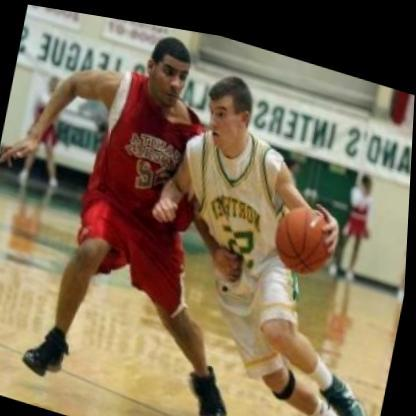basketball: (262, 179, 345, 276)
